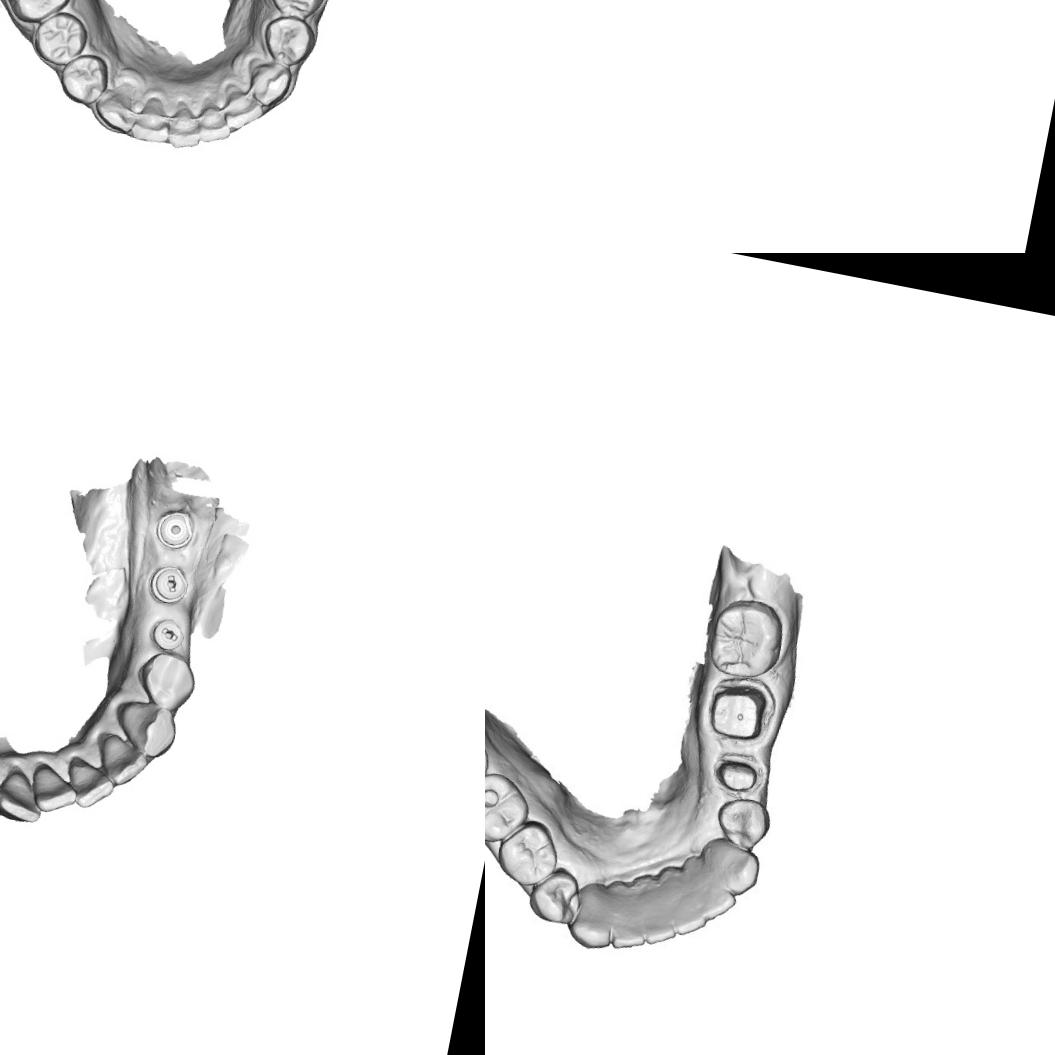canine: (108, 694, 184, 760), (562, 885, 626, 956), (704, 839, 766, 900), (240, 54, 296, 112), (88, 75, 140, 136)
crown: (704, 672, 778, 752), (708, 750, 768, 798)
implant: (149, 504, 200, 554)
implant_minus: (142, 564, 195, 610), (146, 612, 188, 654)
incisor: (92, 730, 152, 792), (25, 758, 83, 820), (60, 756, 120, 814), (0, 763, 50, 827), (606, 894, 653, 956), (216, 81, 268, 136), (128, 88, 175, 147), (162, 96, 206, 152), (192, 94, 236, 148), (635, 899, 681, 950), (672, 885, 712, 941), (694, 878, 740, 925)
molar: (704, 592, 790, 686), (485, 766, 537, 851), (0, 0, 80, 30)
premolar: (492, 812, 566, 894), (128, 648, 202, 714), (710, 790, 776, 856), (525, 862, 589, 930), (28, 5, 92, 71), (255, 11, 320, 70), (54, 46, 112, 108), (265, 0, 329, 23)
